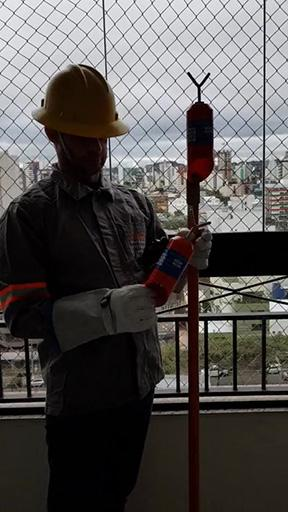Detector_Tensao_Contato: (143, 209, 212, 306), (184, 70, 215, 182)
Vara_Manobra: (185, 182, 201, 512)
